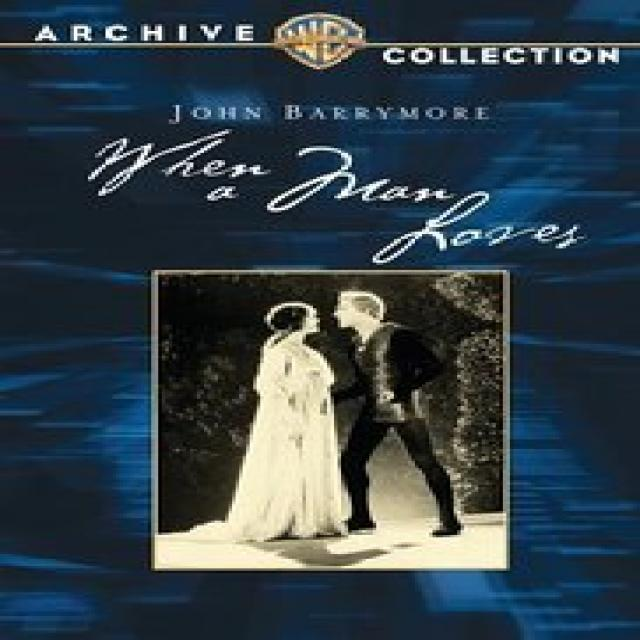movie-judul: (38, 88, 623, 270)
picture: (153, 272, 502, 570)
